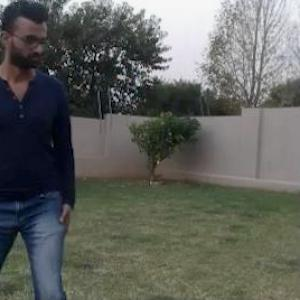follow: (0, 0, 91, 299)
